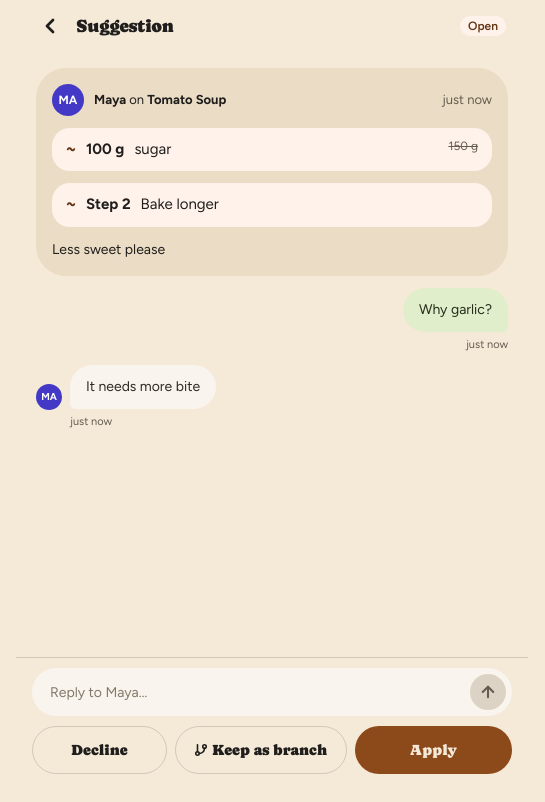
SuggestionThreadPage › owner actions › hides the owner buttons while the reply box has focus
Focus the field labelled "Reply to Maya" at (258, 692), box x1=50 y1=668 x2=466 y2=716
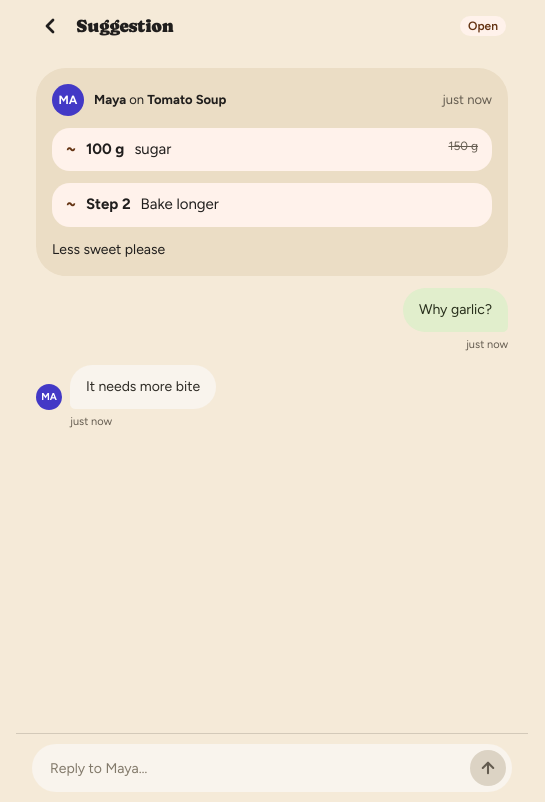
Leave the field labelled "Reply to Maya", box x1=50 y1=744 x2=466 y2=792
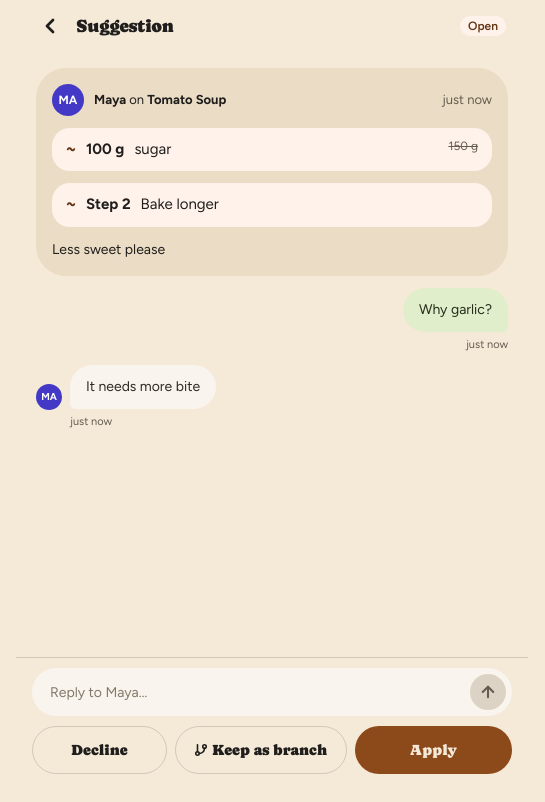
Result: the button with aria-label "Apply, suggestion" is shown at x1=354 y1=726 x2=512 y2=774
